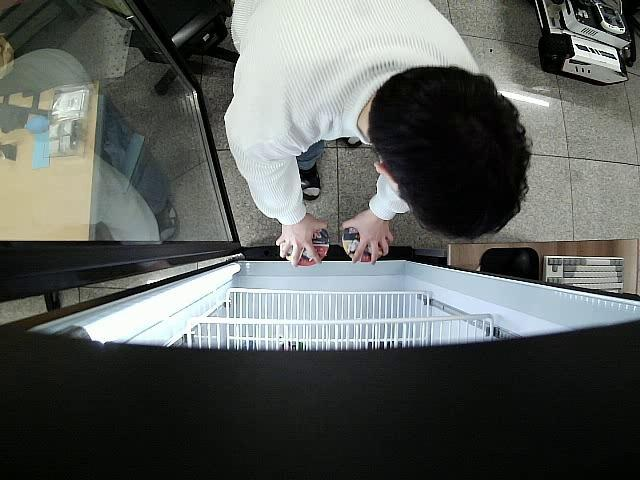07_buldak_L: (284, 228, 332, 269), (337, 224, 382, 263)
